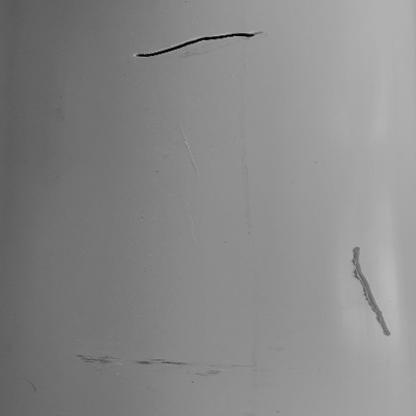fengxi: (133, 29, 266, 59)
sunshang: (349, 247, 396, 337)
